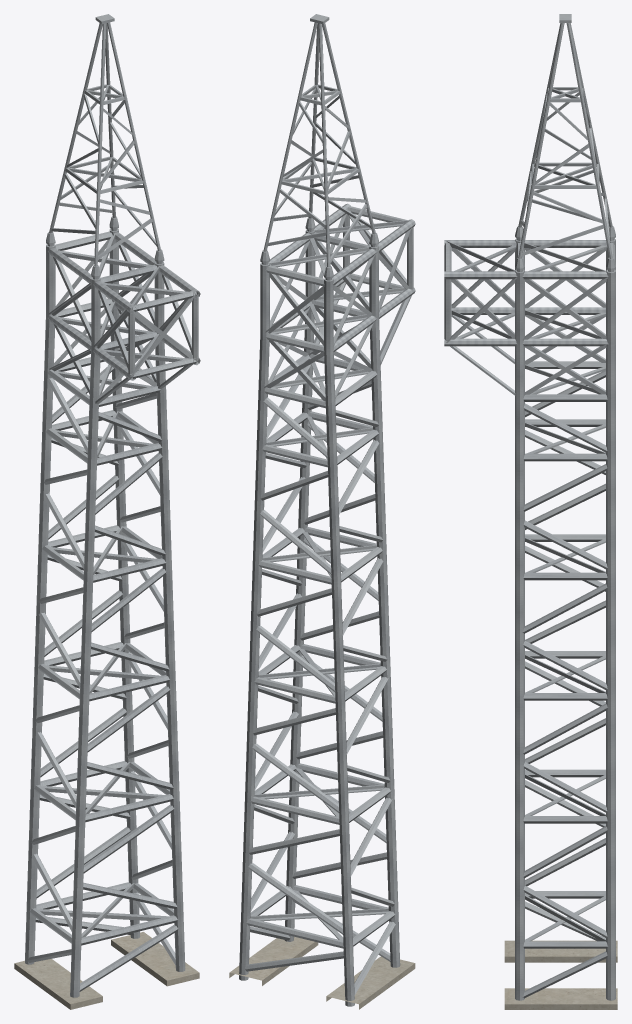
The model's file is tower003_01.FBX.
The picture shows the model from 3 angles, left to right: view 1: azimuth 30°, elevation 25°; view 2: azimuth 150°, elevation 25°; view 3: azimuth 270°, elevation 25°; orthographic projection.
Parts seen in each view (by area): view 1: tower003_01 (×2); view 2: tower003_01 (×2); view 3: tower003_01 (×2).
Part boxes in pixels (<box>): tower003_01 (×2): <box>14,14,200,1009</box>; tower003_01 (×2): <box>229,14,415,1009</box>; tower003_01 (×2): <box>444,14,617,1009</box>.
Size of the model in its own units: 599 by 4226 by 690.
